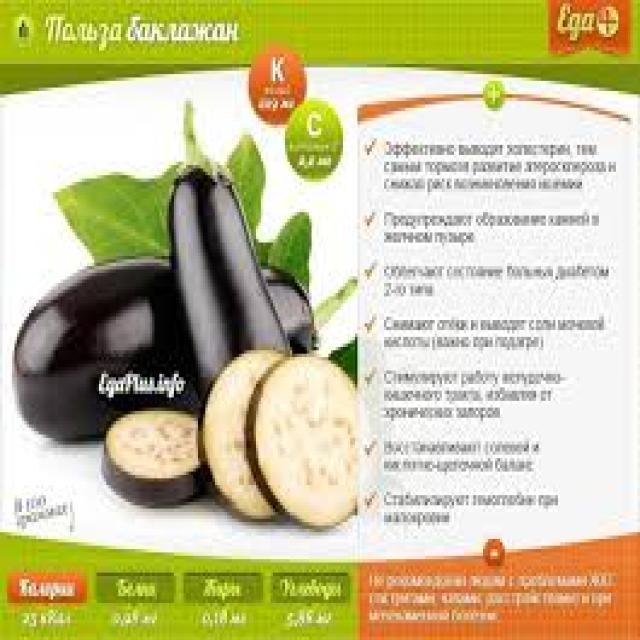eggplant: (6, 228, 353, 418), (83, 348, 387, 548), (153, 100, 292, 421)
